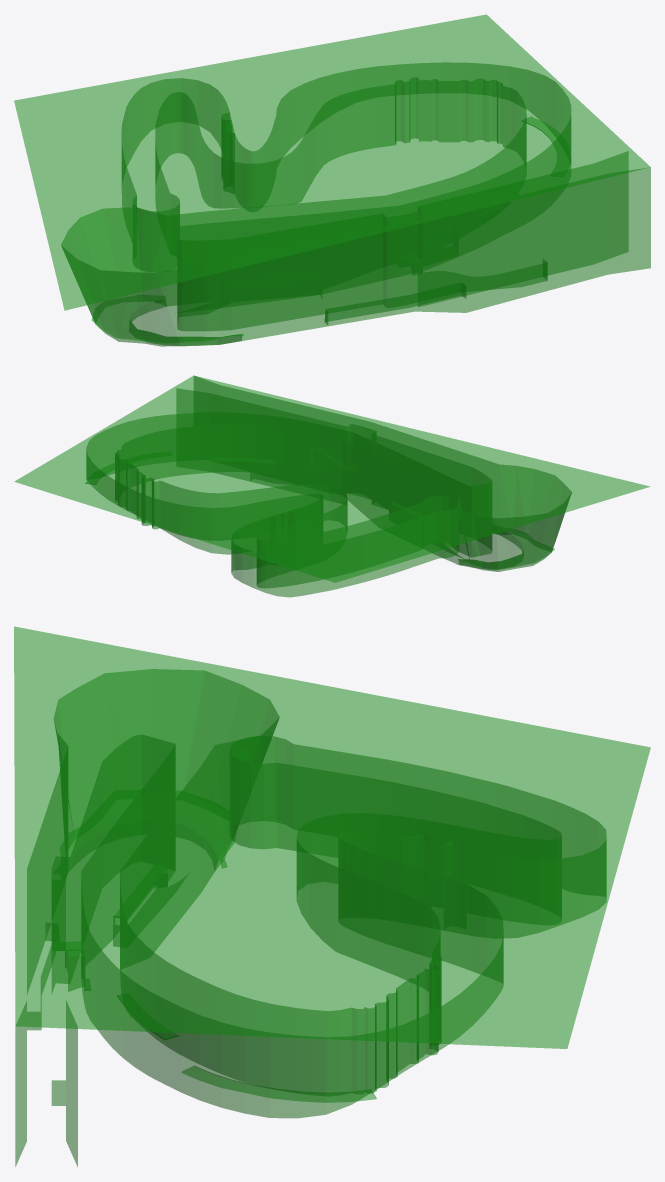
Rendered from wall.obj.
3 views of the same model, one above another, from view 1: azimuth 30°, elevation 25°; view 2: azimuth 150°, elevation 25°; view 3: azimuth 270°, elevation 25° (orthographic). The views are drawn at different scales.
Size of the model in its own units: 641 by 103 by 408.
